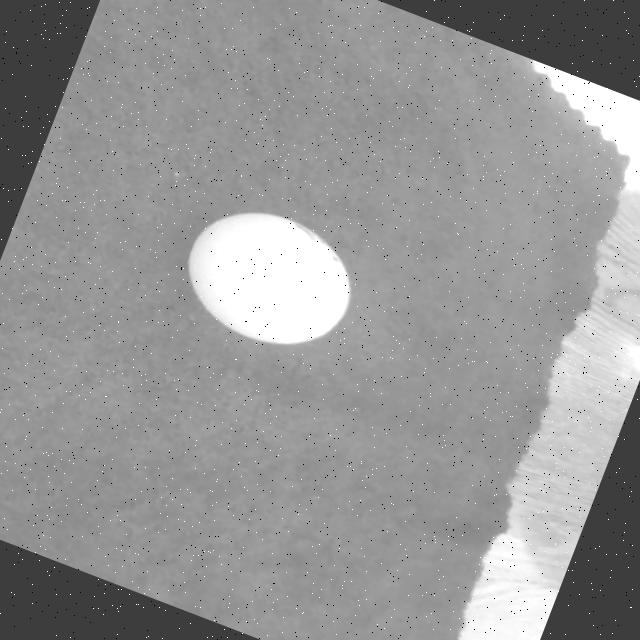ping-pong-ball: (170, 190, 364, 364)
